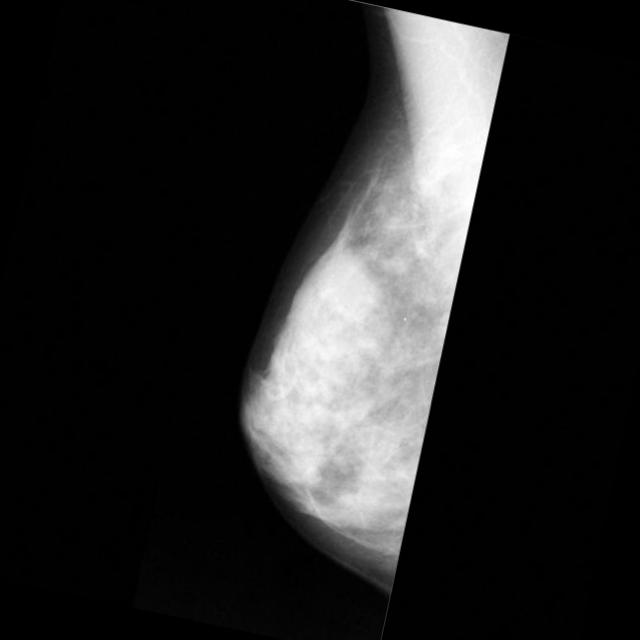CIRC: (314, 252, 385, 323)
